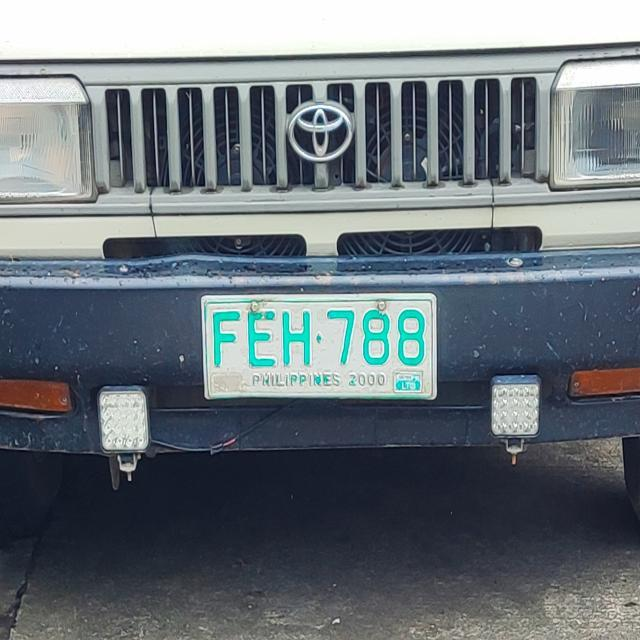LicensePlate: (196, 289, 447, 405)
